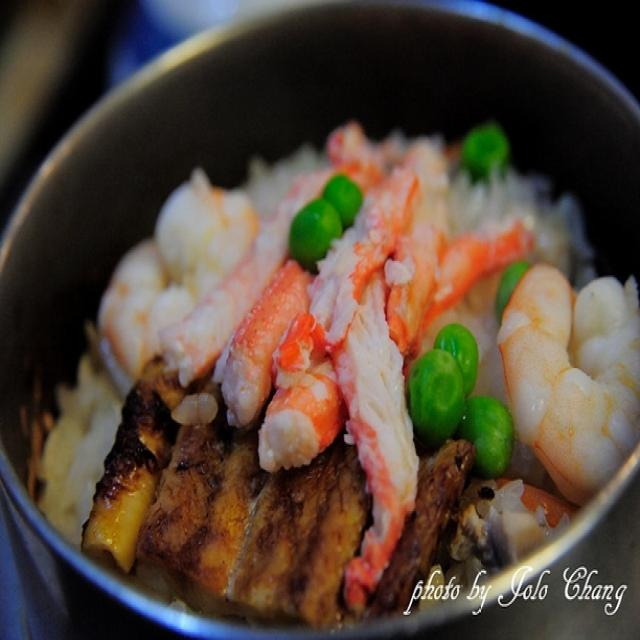炸货点心: (77, 17, 534, 623)
熟制海鲜: (77, 17, 534, 623)
